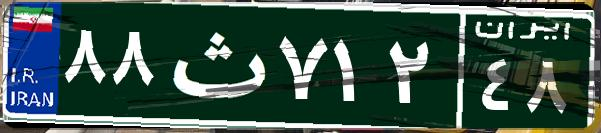1: (330, 28, 385, 110)
2: (385, 28, 445, 110)
4: (475, 38, 525, 113)
7: (273, 28, 330, 110)
8: (57, 26, 110, 107), (110, 28, 158, 105), (525, 38, 570, 115)
ث: (158, 15, 273, 115)
